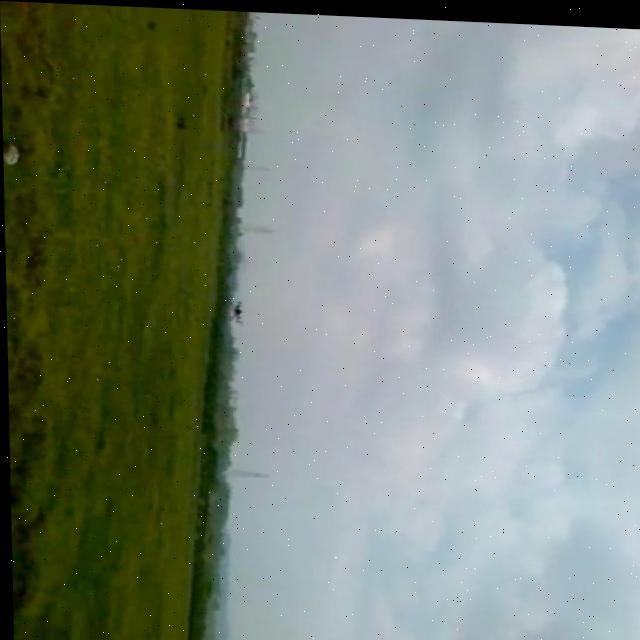drone: (228, 296, 249, 324)
